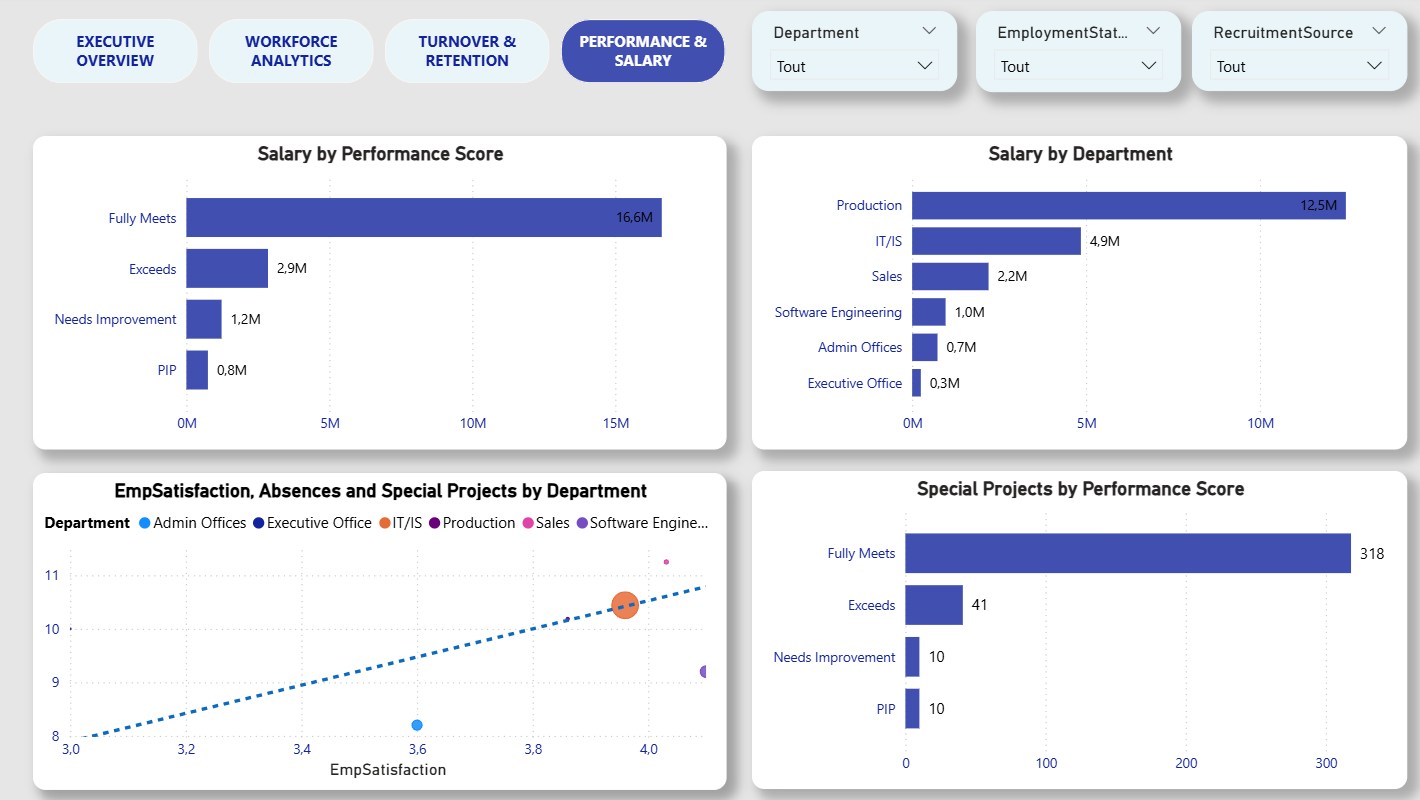

The dashboard page shown, as its layout file describes it:
{"tool":"powerbi","page":{"name":"PERFORMANCE & SALARY","canvas":[1280,720],"ordinal":3},"visuals":[{"type":"barChart","title":"Salary by Performance Score","fields":{"Category":["Performance.PerformanceScore"],"Y":["Sum(Employees.Salary)"]},"box":[34.3,123.9,614.7,278.3],"z":0},{"type":"clusteredBarChart","title":"Salary by Department","fields":{"Y":["Sum(Employees.Salary)"],"Category":["Department.Department"]},"box":[671.9,123.9,581.4,278.3],"z":1000},{"type":"scatterChart","title":" EmpSatisfaction, Absences and Special Projects by Department","fields":{"Series":["Department.Department"],"Size":["Sum(Employees.SpecialProjectsCount)"],"Y":["Avg(Employees.Absences)"],"X":["Avg(Employees.EmpSatisfaction)"]},"box":[34.7,422.8,614.8,281.4],"z":2000},{"type":"clusteredBarChart","title":"Special Projects  by Performance Score","fields":{"Category":["Performance.PerformanceScore"],"Y":["Sum(Employees.SpecialProjectsCount)"]},"box":[671.9,421.3,581.4,282.1],"z":3000},{"type":"slicer","fields":{"Values":["Department.Department"]},"box":[671.9,13.3,182,71.5],"z":4000},{"type":"slicer","fields":{"Values":["EmploymentStatus.EmploymentStatus"]},"box":[871.1,13.3,182,72.4],"z":5000},{"type":"slicer","fields":{"Values":["RecruitmentSource.RecruitmentSource"]},"box":[1062.7,13.3,190.6,71.5],"z":6000},{"type":"pageNavigator","box":[34.3,20,614.7,57.2],"z":7000}]}

Visuals, with their boxes in screenshot pixels (x1, y1, x2, y2), scaled from the page's 1280x720 canvas onto the 1420x800 screenshot:
"Salary by Performance Score" barChart: [38, 138, 720, 447]
"Salary by Department" clusteredBarChart: [745, 138, 1390, 447]
" EmpSatisfaction, Absences and Special Projects by Department" scatterChart: [38, 470, 721, 782]
"Special Projects  by Performance Score" clusteredBarChart: [745, 468, 1390, 782]
slicer - Department.Department: [745, 15, 947, 94]
slicer - EmploymentStatus.EmploymentStatus: [966, 15, 1168, 95]
slicer - RecruitmentSource.RecruitmentSource: [1179, 15, 1390, 94]
pageNavigator: [38, 22, 720, 86]
